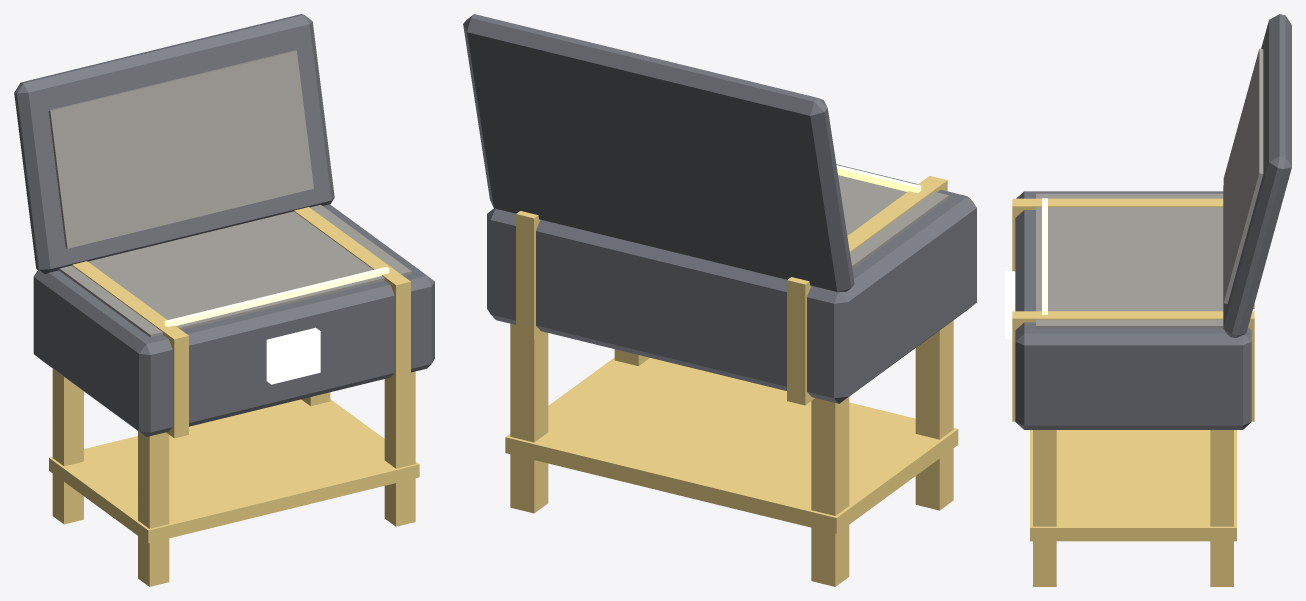
The picture shows the model from 3 angles, left to right: view 1: azimuth 30°, elevation 25°; view 2: azimuth 150°, elevation 25°; view 3: azimuth 270°, elevation 25°; orthographic projection. The views are drawn at different scales.
Parts seen in each view (by area): view 1: lt_box_cr; view 2: lt_box_cr; view 3: lt_box_cr.
Boxes of the visible parts, x1,y1,x2,y2 form: lt_box_cr: [14, 14, 434, 586]; lt_box_cr: [463, 14, 976, 586]; lt_box_cr: [1005, 14, 1291, 586].
Size of the model in its own units: 1.2 by 1.62 by 0.9712.
